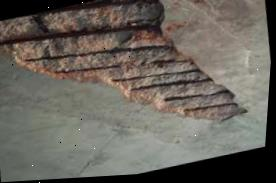exposed_rebar: (0, 24, 156, 46), (22, 43, 172, 60), (56, 57, 192, 72), (37, 0, 140, 14), (130, 75, 212, 90), (111, 68, 199, 81), (164, 88, 229, 101), (184, 101, 236, 111), (33, 14, 48, 33)
spalling: (0, 0, 248, 120)
